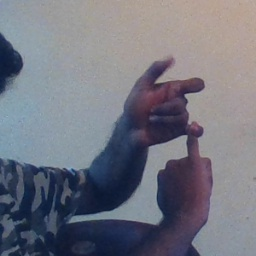S: (119, 45, 232, 212)
